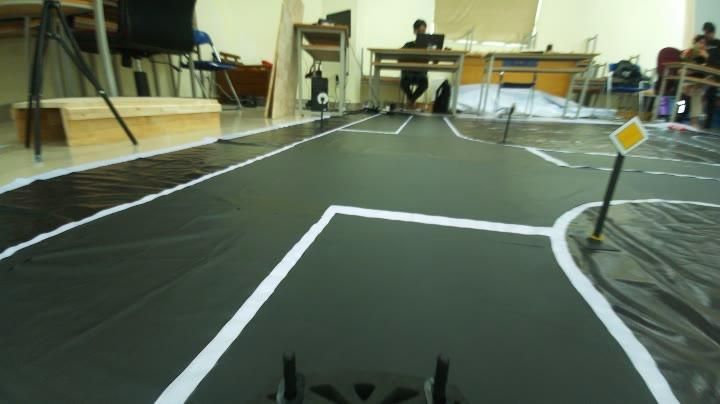priority: (608, 115, 654, 160)
